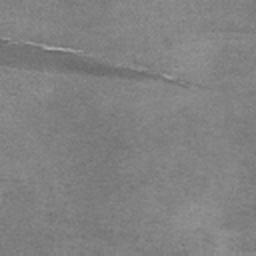Finishing roll printing: (0, 37, 191, 89)
